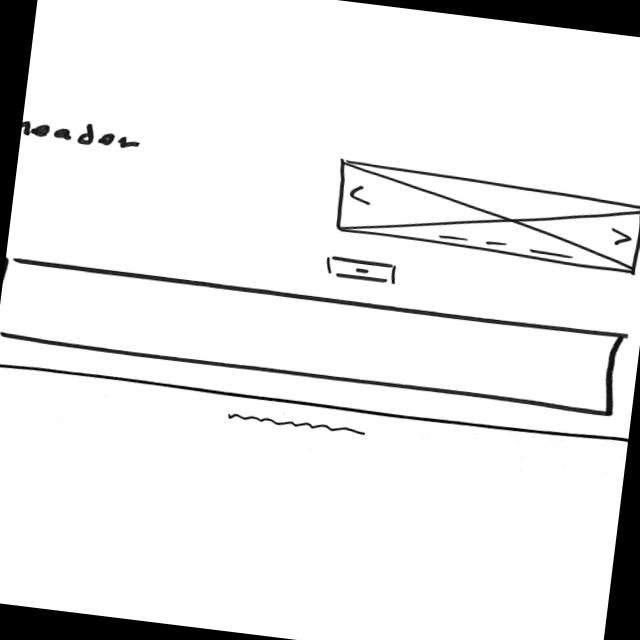container: (1, 255, 627, 419)
icon-button: (323, 254, 404, 289)
image: (331, 156, 640, 276)
label: (21, 111, 144, 154)
text: (224, 410, 372, 441)
